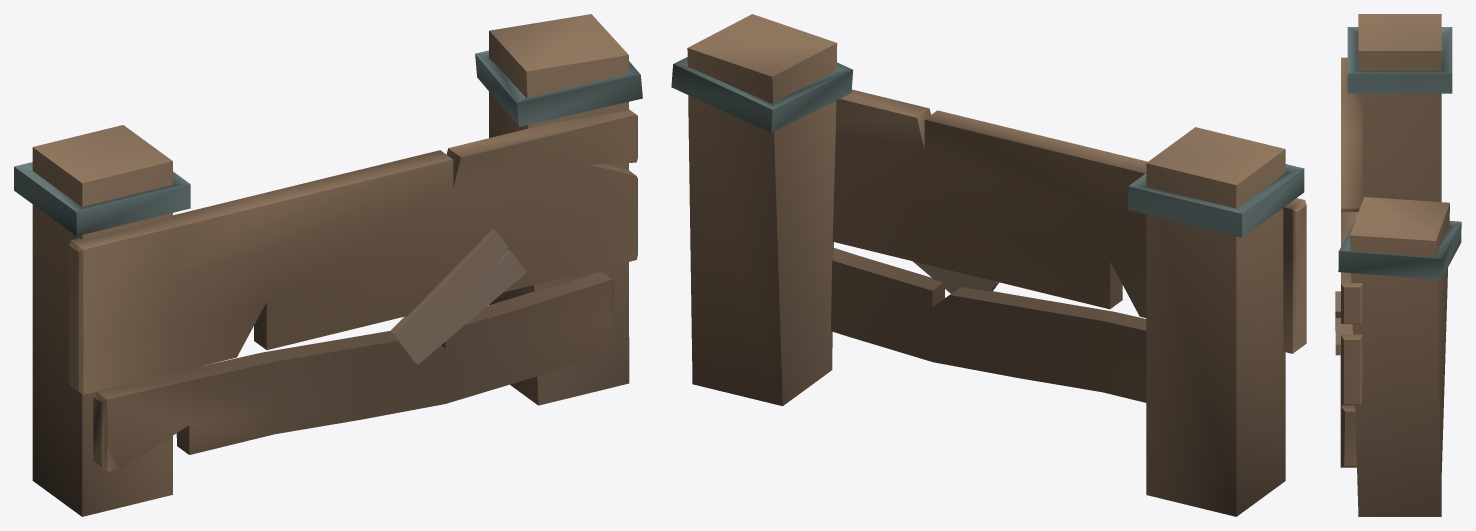
The model's file is Fences01.fbx.
3 views of the same model, side by side, from view 1: azimuth 30°, elevation 25°; view 2: azimuth 150°, elevation 25°; view 3: azimuth 270°, elevation 25° (orthographic). The views are drawn at different scales.
Visible parts, largest first — view 1: Fances01_LOD0; view 2: Fances01_LOD0; view 3: Fances01_LOD0.
Boxes of the visible parts, x1,y1,x2,y2 form: Fances01_LOD0: [14, 14, 642, 516]; Fances01_LOD0: [671, 14, 1306, 516]; Fances01_LOD0: [1335, 14, 1461, 516].
Size of what is drawn, in the model's own units: 158 by 86.96 by 35.6.
